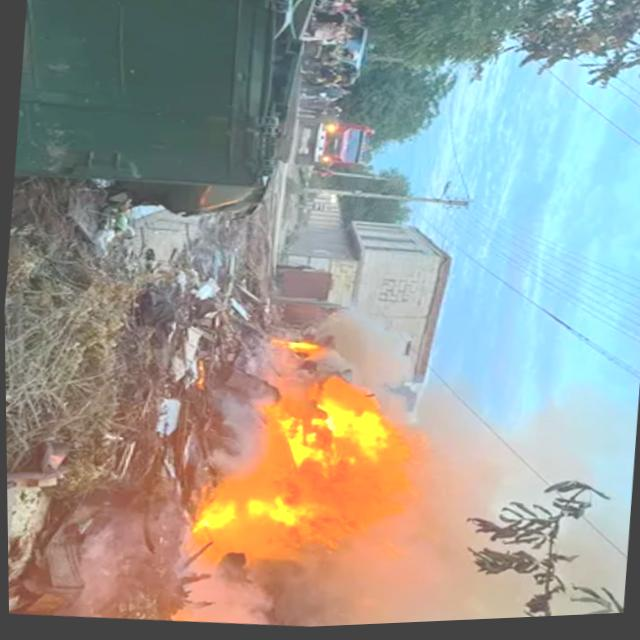helmet: (212, 361, 403, 551)
no_helmet: (269, 356, 640, 631)
